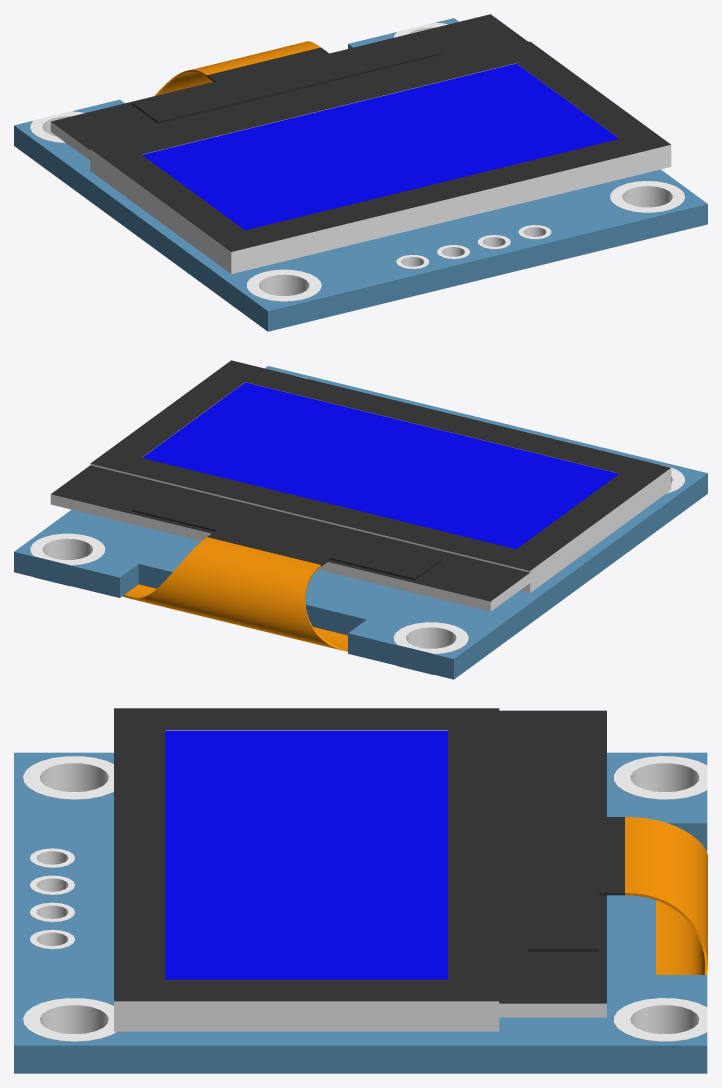
File: oled_096.obj
3 views of the same model, one above another, from view 1: azimuth 30°, elevation 25°; view 2: azimuth 150°, elevation 25°; view 3: azimuth 270°, elevation 25° (orthographic). The views are drawn at different scales.
Parts seen in each view (by area): view 1: Solid1; view 2: Solid1; view 3: Solid1.
Boxes of the visible parts, x1,y1,x2,y2 form: Solid1: (14,14,707,331); Solid1: (14,360,707,679); Solid1: (14,708,707,1073).
Size of the model in its own units: 27 by 4.35 by 27.03.
